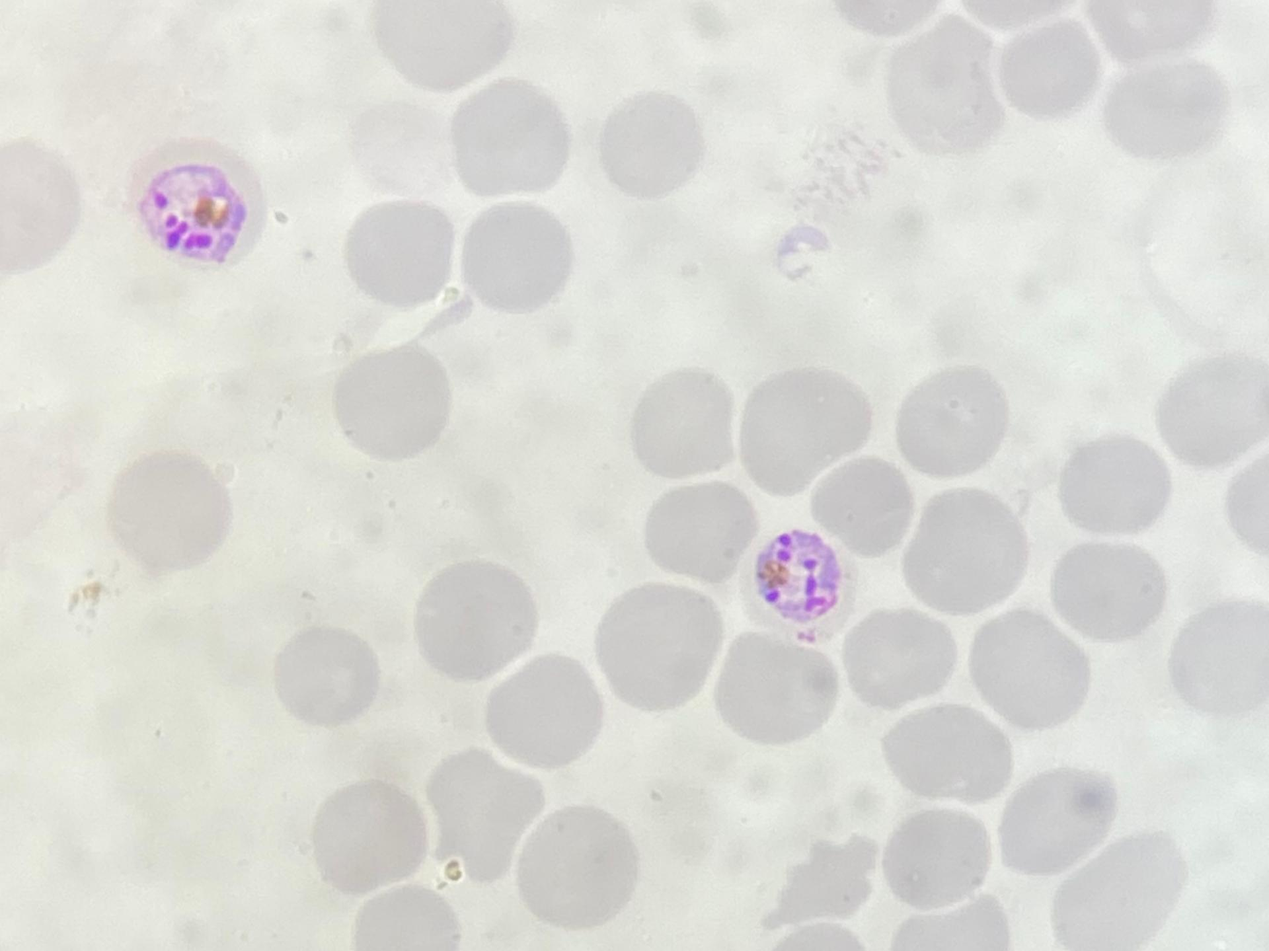Infected: (1021, 681, 1137, 783), (429, 321, 514, 419)
Uninfected: (1035, 371, 1162, 505), (399, 459, 531, 587), (259, 794, 381, 932), (237, 334, 367, 463), (82, 0, 219, 119), (545, 239, 672, 366), (720, 69, 840, 202), (627, 21, 751, 145), (730, 268, 851, 391), (177, 220, 297, 342), (428, 203, 555, 318), (839, 56, 959, 174), (696, 753, 815, 870), (664, 183, 783, 299), (258, 144, 388, 250), (38, 786, 165, 894), (256, 471, 373, 587), (150, 73, 272, 184), (817, 490, 933, 606), (1, 480, 112, 596), (751, 859, 894, 948), (272, 39, 387, 149), (102, 306, 222, 411), (1181, 393, 1269, 536), (388, 20, 510, 122), (560, 750, 670, 860), (96, 412, 213, 515), (817, 640, 919, 756), (696, 633, 806, 740), (531, 470, 636, 582), (0, 229, 98, 349), (166, 828, 276, 934), (311, 240, 424, 342), (1184, 675, 1268, 811), (512, 367, 624, 468), (810, 749, 923, 849), (888, 223, 997, 326), (353, 393, 459, 492), (539, 77, 631, 166), (808, 3, 915, 67)
